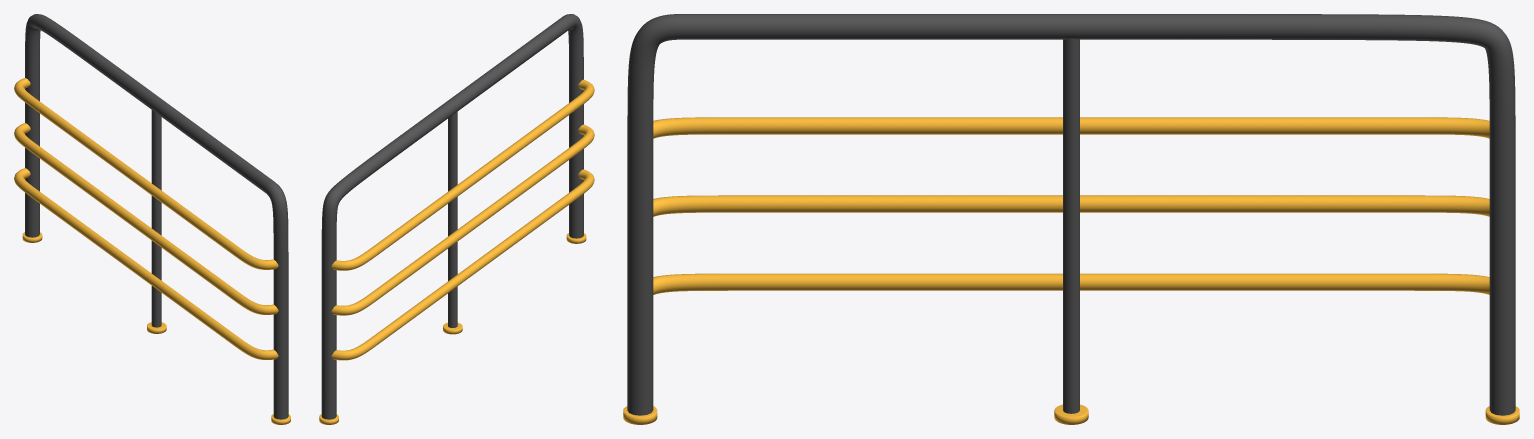
Rendered from Ringhiera2x1.fbx.
3 renders of one model, left to right at view 1: azimuth 30°, elevation 25°; view 2: azimuth 150°, elevation 25°; view 3: azimuth 270°, elevation 25°, orthographic. The views are drawn at different scales.
Visible parts, largest first — view 1: MainStruct, BarraOriz3, BarraOriz1, BarraOriz2, BarraVert; view 2: MainStruct, BarraOriz1, BarraOriz2, BarraOriz3, BarraVert; view 3: MainStruct, BarraOriz3, BarraOriz1, BarraOriz2, BarraVert.
Part boxes in pixels (left/top/right/bottom): MainStruct: left=25, top=14, right=288, bottom=419; BarraOriz3: left=14, top=78, right=278, bottom=269; BarraOriz1: left=14, top=123, right=278, bottom=314; BarraOriz2: left=14, top=168, right=278, bottom=359; BarraVert: left=151, top=110, right=161, bottom=327; MainStruct: left=321, top=14, right=583, bottom=419; BarraOriz1: left=331, top=124, right=594, bottom=315; BarraOriz2: left=331, top=169, right=594, bottom=360; BarraOriz3: left=331, top=79, right=594, bottom=270; BarraVert: left=448, top=111, right=457, bottom=327; MainStruct: left=627, top=14, right=1515, bottom=415; BarraOriz3: left=653, top=117, right=1489, bottom=138; BarraOriz1: left=653, top=195, right=1489, bottom=216; BarraOriz2: left=653, top=273, right=1489, bottom=294; BarraVert: left=1063, top=38, right=1079, bottom=413.
Bounding box in the file's own units: 15.96 × 103 × 208.
